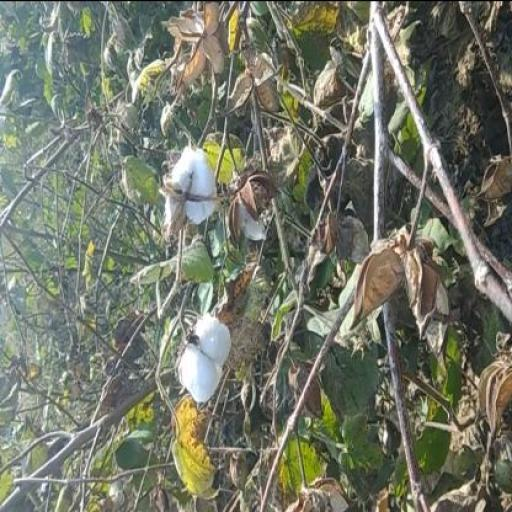cotton_ready: (178, 289, 245, 430), (159, 130, 232, 242)
